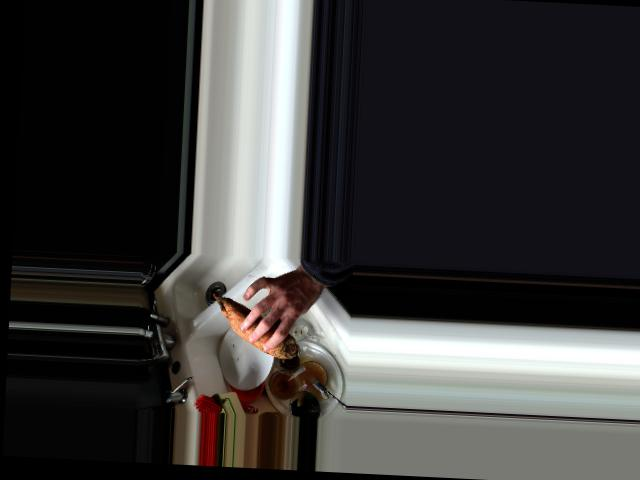sweet_potato: (209, 292, 300, 360)
